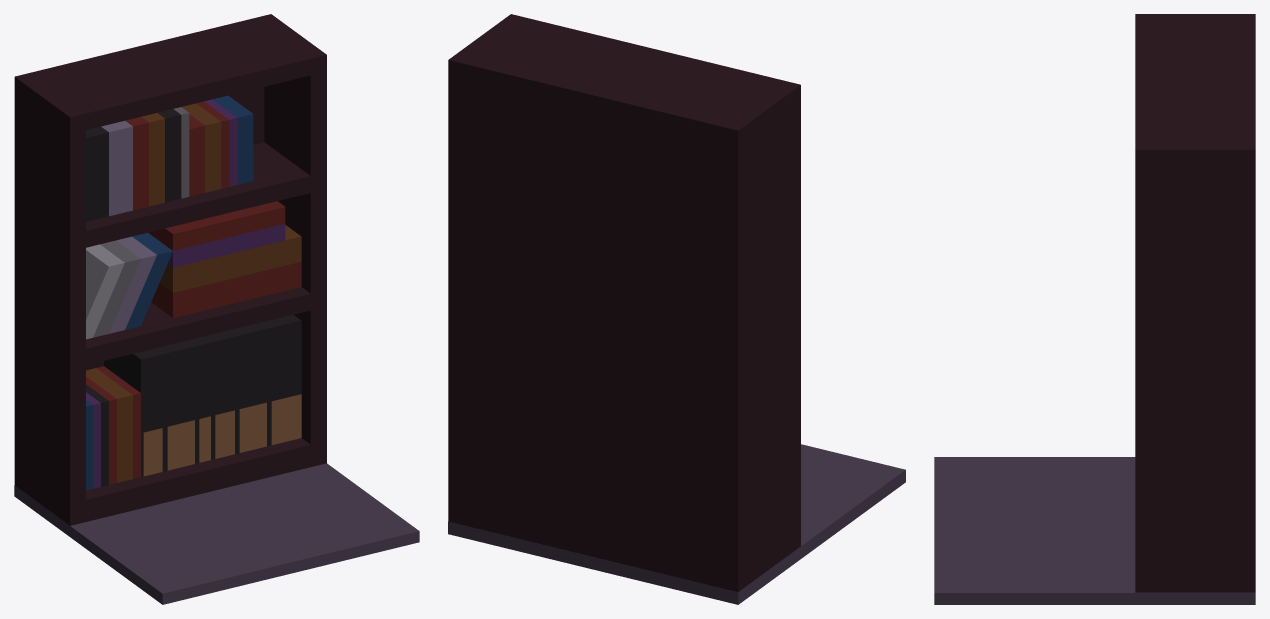
The model's file is office_bookshelf.dae.
The picture shows the model from 3 angles, left to right: view 1: azimuth 30°, elevation 25°; view 2: azimuth 150°, elevation 25°; view 3: azimuth 270°, elevation 25°; orthographic projection. The views are drawn at different scales.
Visible parts, largest first — view 1: office_bookshelf_MSH; view 2: office_bookshelf_MSH; view 3: office_bookshelf_MSH.
Part boxes in pixels (bbox=[...]): office_bookshelf_MSH: bbox=[14, 14, 419, 604]; office_bookshelf_MSH: bbox=[448, 14, 905, 604]; office_bookshelf_MSH: bbox=[934, 14, 1255, 604].
Bounding box in the file's own units: 1 × 1.56 × 1.
